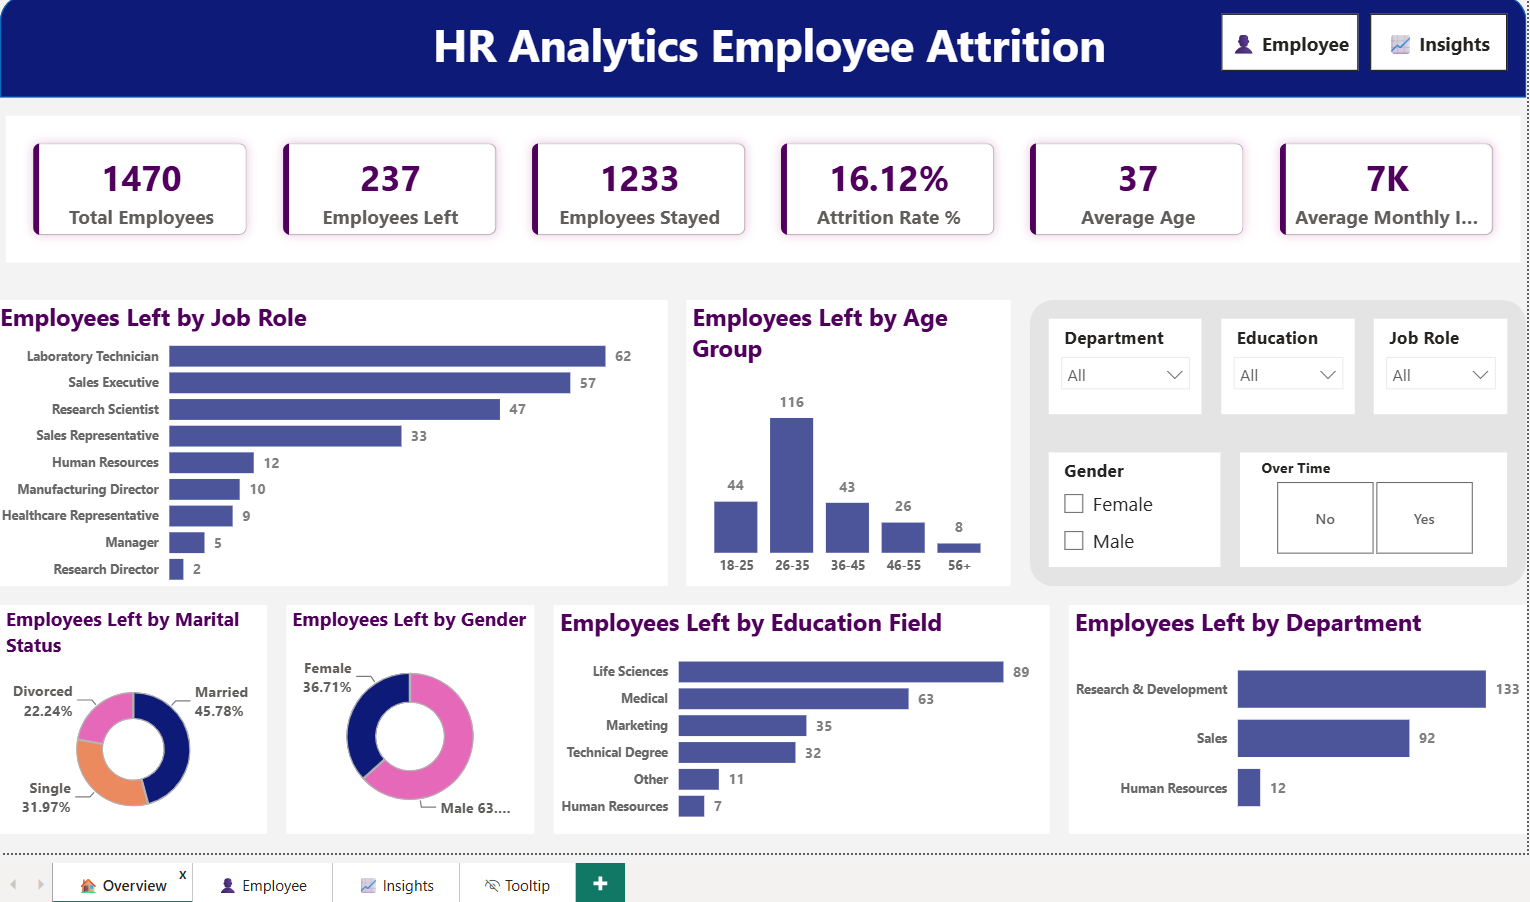

Layout of this report page (visuals, bound fields, positions):
{"tool":"powerbi","page":{"name":"🏠 Overview","canvas":[1280,720],"ordinal":0},"visuals":[{"type":"shape","box":[0,0,1280.2,86],"z":1000},{"type":"textbox","box":[0,11.6,1280.2,74.4],"z":2000},{"type":"donutChart","fields":{"Category":["Employee_Attrition.Gender"],"Y":["Employee_Attrition.Employees Left"]},"box":[240,512,208,192],"z":3000},{"type":"donutChart","title":"Employees Left by Marital Status","fields":{"Category":["Employee_Attrition.Marital_Status"],"Y":["CountNonNull(Employee_Attrition.Attrition)"]},"box":[0,512,224,192],"z":4000},{"type":"clusteredBarChart","title":"Employees Left by Job Role","fields":{"Category":["Employee_Attrition.Job_Role"],"Y":["Employee_Attrition.Employees Left"]},"box":[0,256,416,240],"z":5000},{"type":"cardVisual","fields":{"Data":["Employee_Attrition.Total Employees","Employee_Attrition.Employees Left","Employee_Attrition.Employees Stayed","Employee_Attrition.Attrition Rate %","Employee_Attrition.Average Age","Employee_Attrition.Average Monthly Income"]},"box":[0,96,1280.2,133.7],"z":6000},{"type":"clusteredBarChart","fields":{"Category":["Employee_Attrition.Department"],"Y":["Employee_Attrition.Employees Left"]},"box":[896,512,384,192],"z":7000},{"type":"clusteredBarChart","title":"Employees Left by Education Field","fields":{"Y":["Employee_Attrition.Employees Left"],"Category":["Employee_Attrition.Education_Field"]},"box":[464,512,416,192],"z":8000},{"type":"clusteredColumnChart","fields":{"Y":["Employee_Attrition.Employees Left"],"Category":["Employee_Attrition.Age Group"]},"box":[432,256,272,240],"z":9000},{"type":"shape","box":[720,256,560,240],"z":10000},{"type":"slicer","fields":{"Values":["Employee_Attrition.Department"]},"box":[736,272,144,80],"z":11000},{"type":"slicer","fields":{"Values":["Employee_Attrition.Education_Field"]},"box":[928,272,144,80],"z":12000},{"type":"slicer","fields":{"Values":["Employee_Attrition.Job_Role"]},"box":[1120,272,144,80],"z":13000},{"type":"slicer","fields":{"Values":["Employee_Attrition.Gender"]},"box":[736,384,192,96],"z":14000},{"type":"slicer","fields":{"Values":["Employee_Attrition.Over_Time"]},"box":[944,384,320,96],"z":15000},{"type":"pageNavigator","box":[1024,16,240,48],"z":16000}]}

Visuals, with their boxes on the page's 1280x720 design canvas (x1, y1, x2, y2). These are canvas units, not pixel positions in the 1530x902 screenshot, which may show the page scaled, cropped or inside an application window:
shape: 0 0 1280 86
textbox: 0 12 1280 86
donutChart - Employee_Attrition.Gender x Employee_Attrition.Employees Left: 240 512 448 704
"Employees Left by Marital Status" donutChart: 0 512 224 704
"Employees Left by Job Role" clusteredBarChart: 0 256 416 496
cardVisual - Employee_Attrition.Total Employees x Employee_Attrition.Employees Left: 0 96 1280 230
clusteredBarChart - Employee_Attrition.Department x Employee_Attrition.Employees Left: 896 512 1280 704
"Employees Left by Education Field" clusteredBarChart: 464 512 880 704
clusteredColumnChart - Employee_Attrition.Employees Left x Employee_Attrition.Age Group: 432 256 704 496
shape: 720 256 1280 496
slicer - Employee_Attrition.Department: 736 272 880 352
slicer - Employee_Attrition.Education_Field: 928 272 1072 352
slicer - Employee_Attrition.Job_Role: 1120 272 1264 352
slicer - Employee_Attrition.Gender: 736 384 928 480
slicer - Employee_Attrition.Over_Time: 944 384 1264 480
pageNavigator: 1024 16 1264 64
